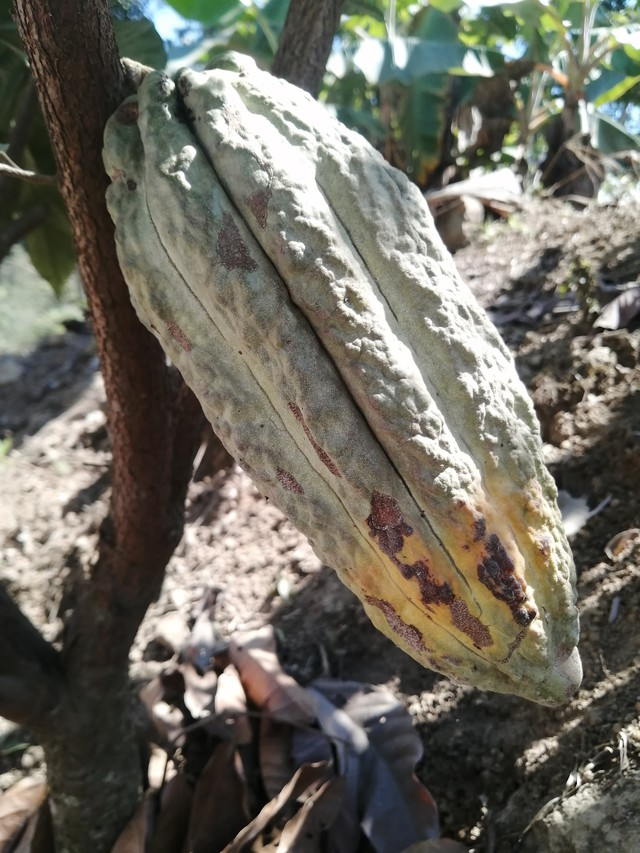moniliophthora perniciosa: (97, 38, 598, 720)
